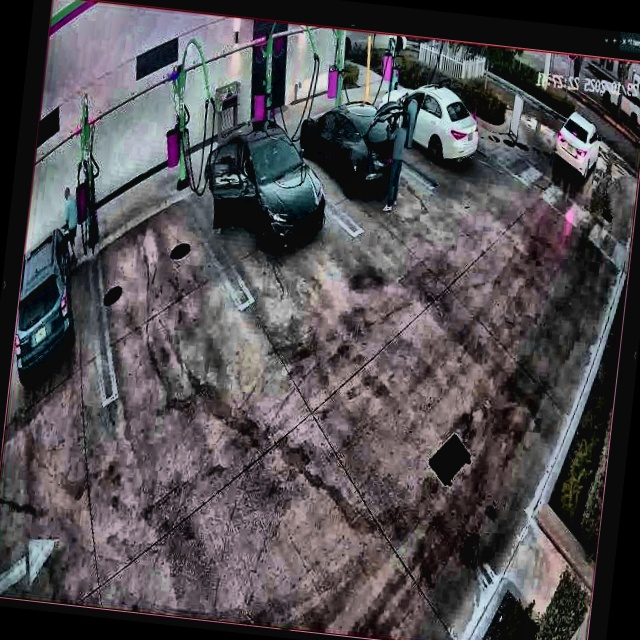Car: (196, 112, 335, 255), (296, 94, 409, 191), (375, 79, 484, 166)
